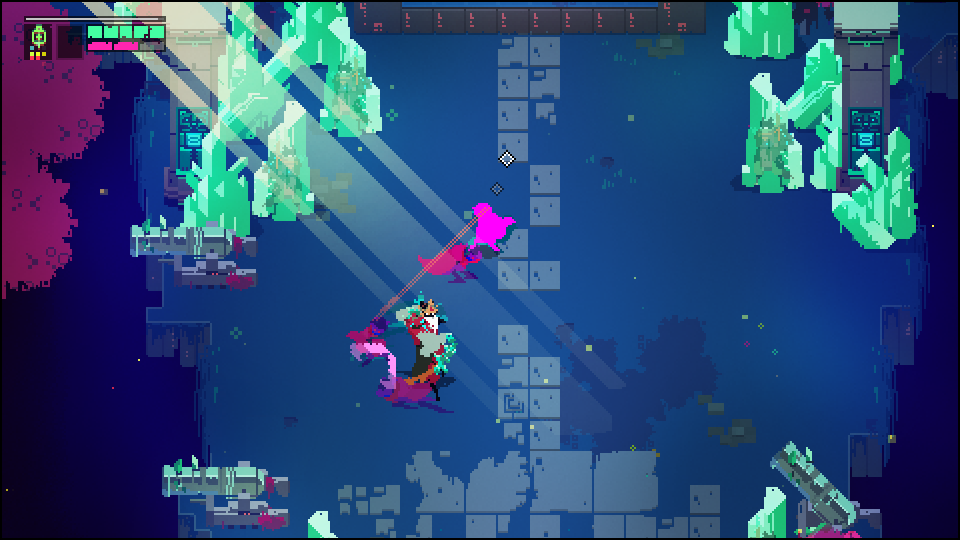hanged_man: (394, 294, 457, 399)
player: (469, 201, 515, 248)
